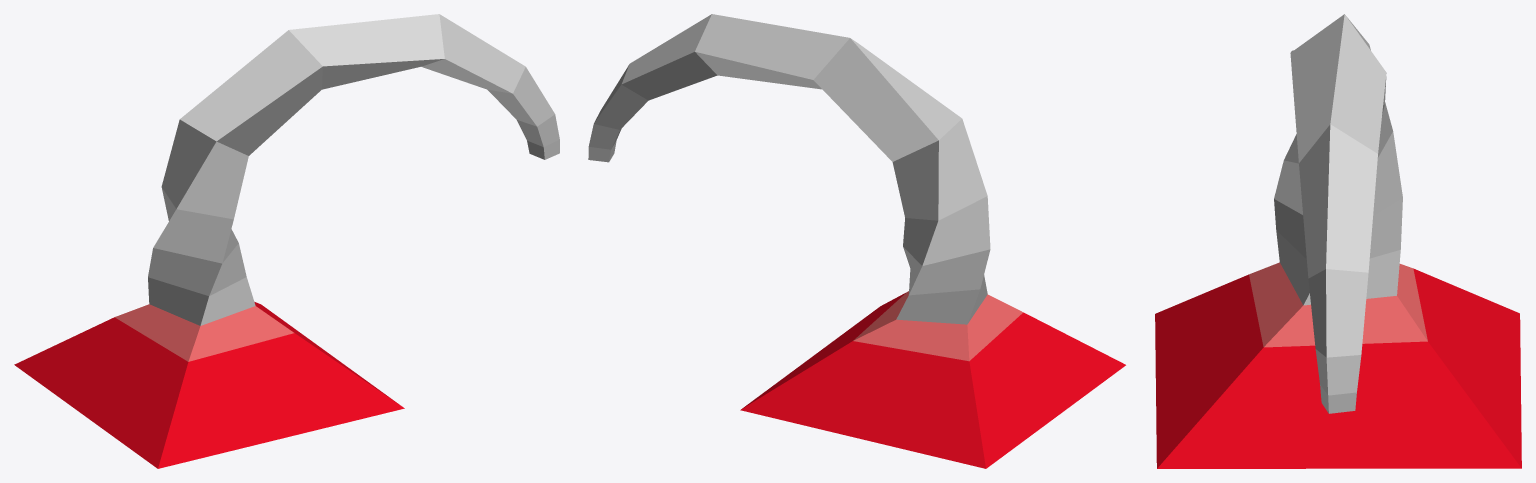
Rendered from NaniteSupportGrowth&Fruit 1.fbx.
The picture shows the model from 3 angles, left to right: view 1: azimuth 30°, elevation 25°; view 2: azimuth 150°, elevation 25°; view 3: azimuth 270°, elevation 25°; orthographic projection. The views are drawn at different scales.
Visible parts, largest first — view 1: Plane; view 2: Plane; view 3: Plane.
Boxes of the visible parts, x1,y1,x2,y2 form: Plane: [14, 14, 559, 468]; Plane: [588, 14, 1125, 468]; Plane: [1155, 14, 1521, 468].
Bounding box in the file's own units: 1514 × 1031 × 800.
